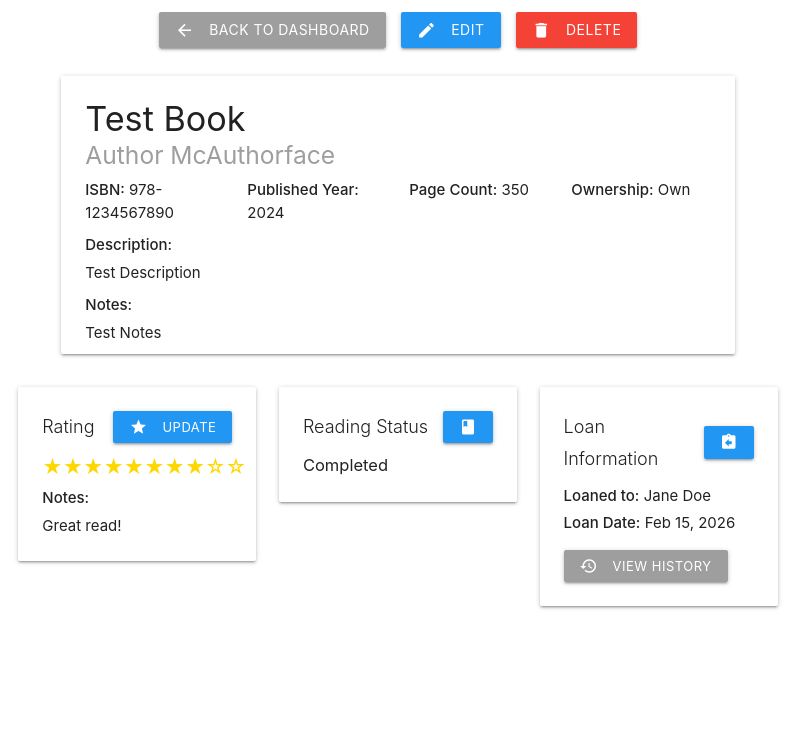
Test: BookDetails Page › Integration Tests › Edit Mode › should populate form fields with current book data
The width and height of the screenshot is (797, 732).
Check: the heading "Test Book" is shown, box [85,98,246,138]
Click the button "Edit": (451, 30) [401,12,500,48]
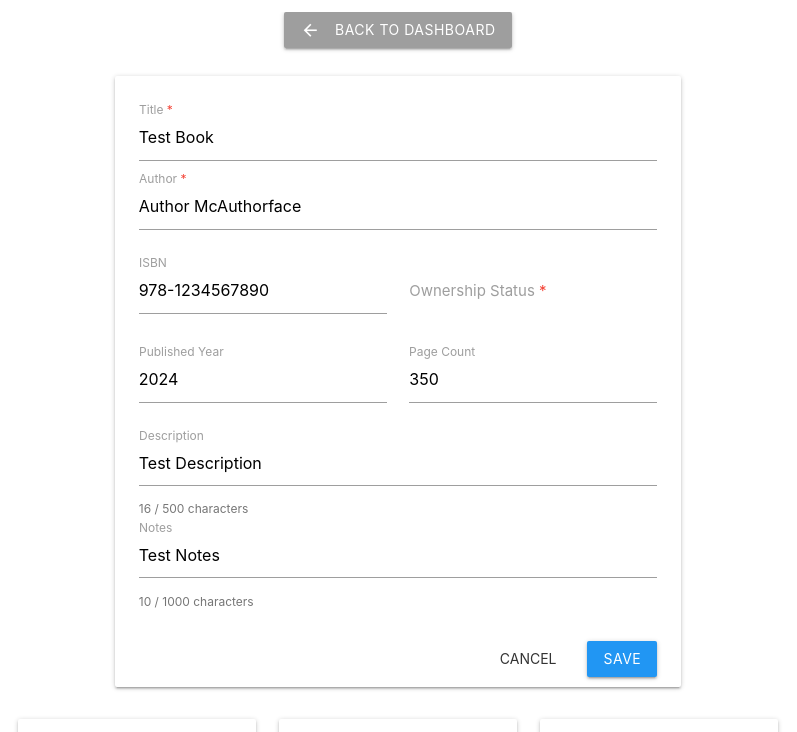
Check: the field showing "Test Book" is shown, box [139,114,657,160]
Check: the field showing "Author McAuthorface" is shown, box [139,184,657,230]
Check: the text box showing "Test Description" is shown, box [139,440,657,486]
